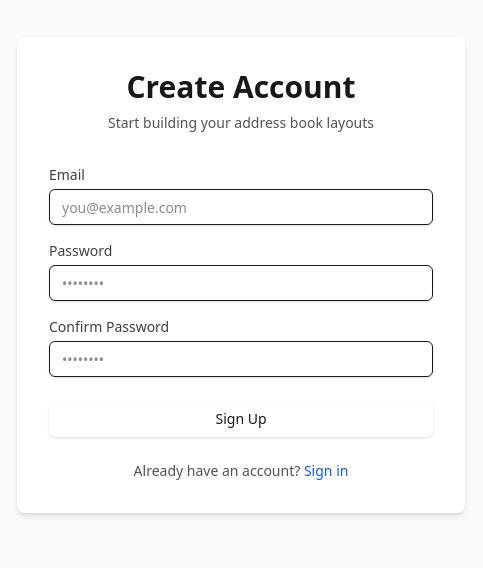
Scenario: SignupPage › should display error when passwords do not match
This screenshot has width=483, height=568.
Type "test@example.com" into the field labelled "Email" at (241, 207), box top-left (49, 189), bottom-right (433, 225)
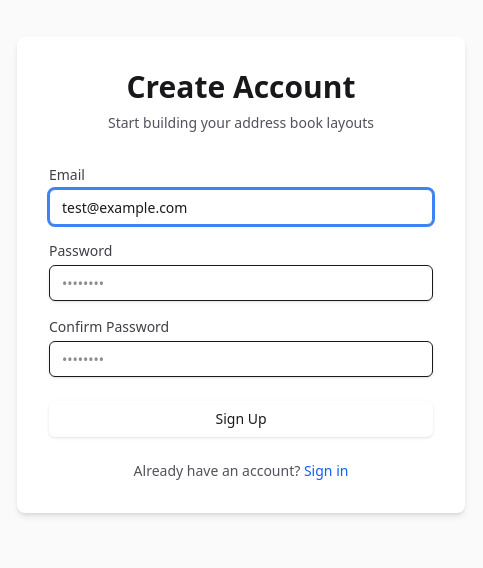
Type "password123" into the password field labelled "Password" at (241, 283), box top-left (49, 265), bottom-right (433, 301)
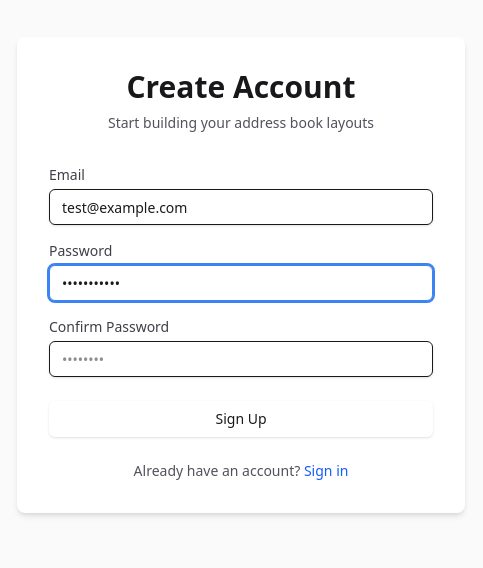
Type "differentpassword" into the password field labelled "Confirm Password" at (241, 359), box top-left (49, 341), bottom-right (433, 377)
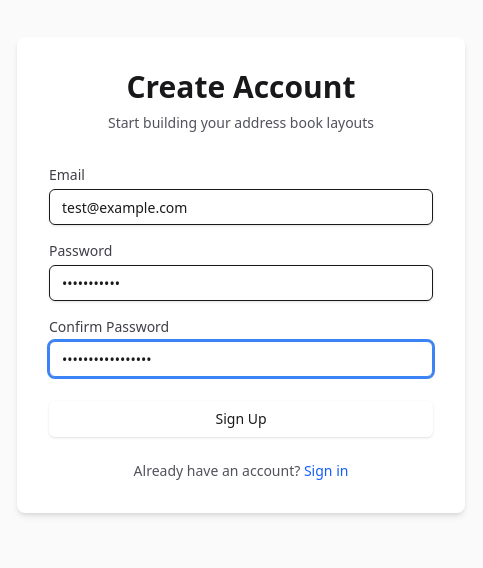
Click the button with aria-label "create your account" at (241, 419), box top-left (49, 401), bottom-right (433, 437)
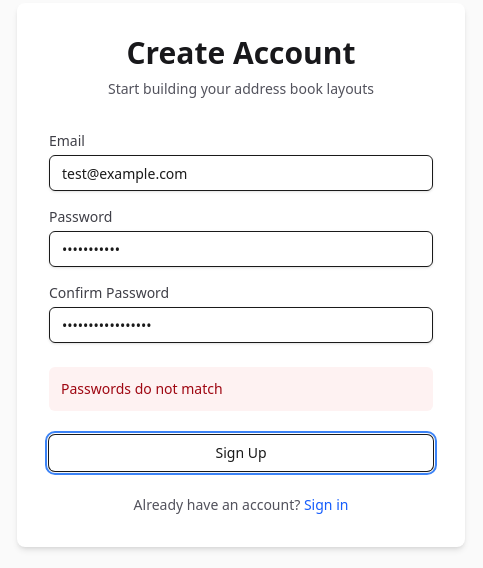
Expected: the text "Passwords do not match" is shown, top-left (49, 367), bottom-right (433, 411)
